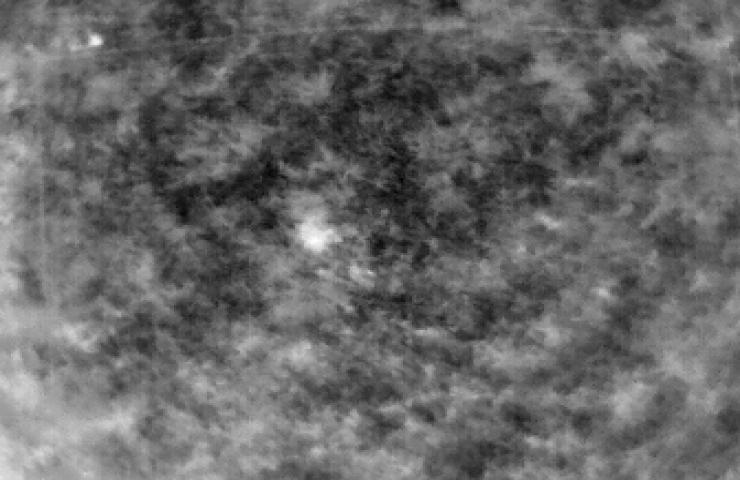landmines: (301, 217, 339, 252)
